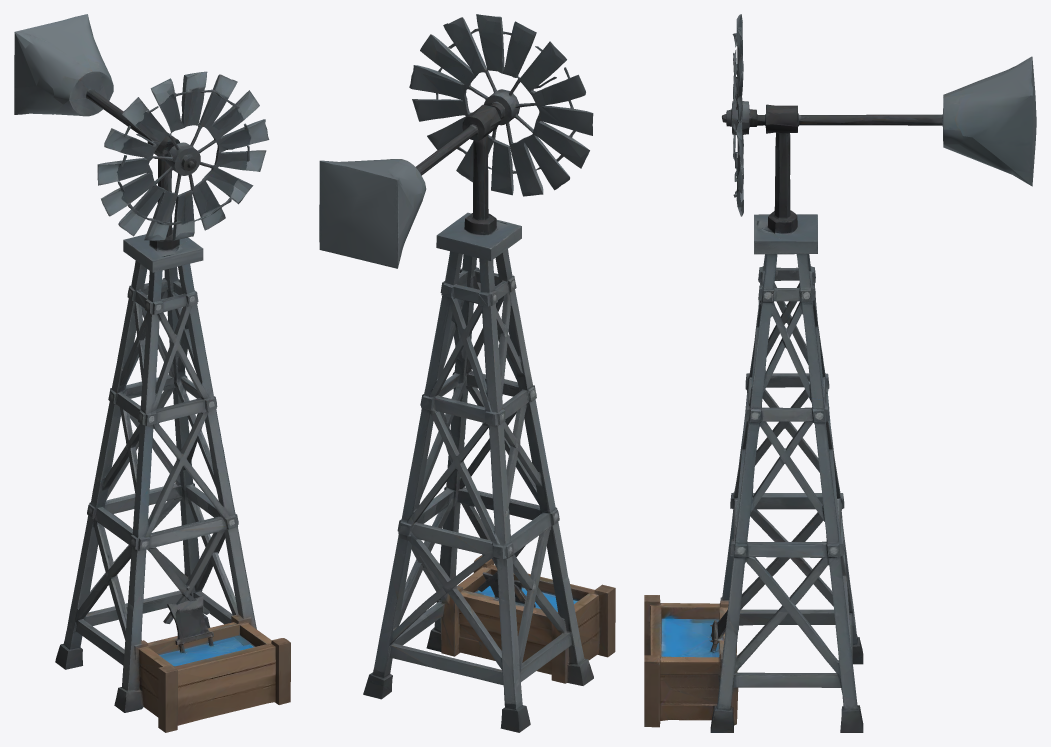
File: windmill.glb
3 renders of one model, left to right at view 1: azimuth 30°, elevation 25°; view 2: azimuth 150°, elevation 25°; view 3: azimuth 270°, elevation 25°, orthographic. The views are drawn at different scales.
Size of the model in its own units: 0.5587 by 1.9 by 1.01.
1 material, 1 textured.
